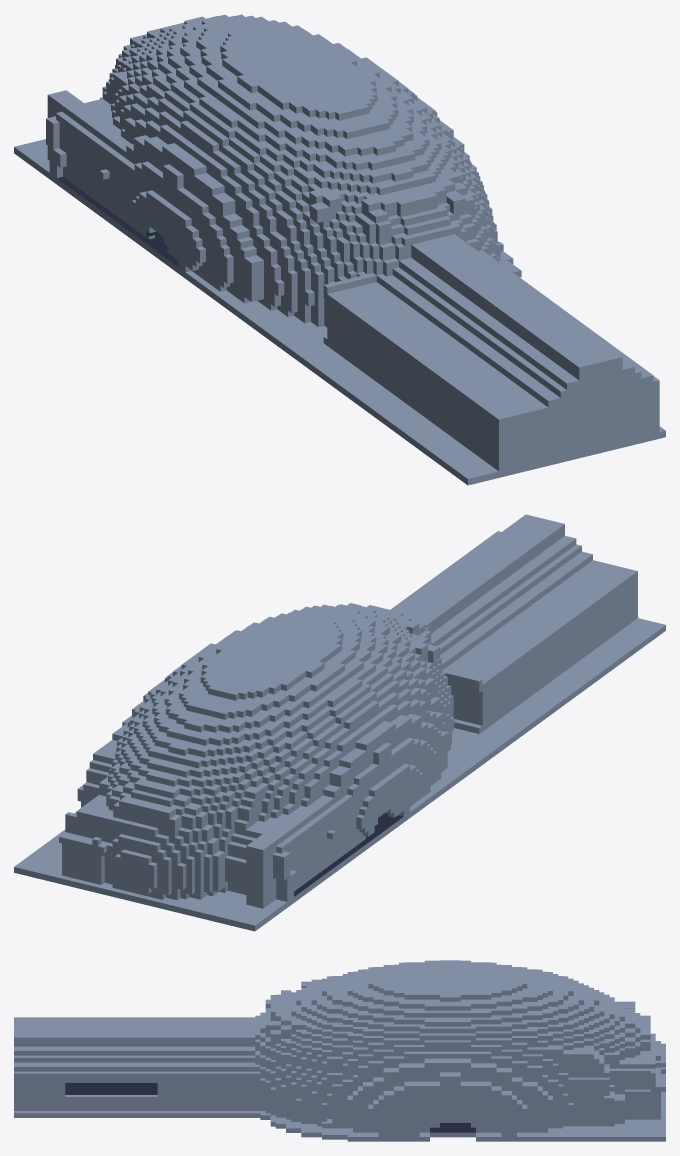
File: LevelCorrected.glb
3 renders of one model, top to bottom at view 1: azimuth 30°, elevation 25°; view 2: azimuth 150°, elevation 25°; view 3: azimuth 270°, elevation 25°, orthographic. The views are drawn at different scales.
Visible parts, largest first — view 1: Untitled; view 2: Untitled; view 3: Untitled.
Part boxes in pixels (left/top/right/bottom): Untitled: left=14, top=14, right=665, bottom=485; Untitled: left=14, top=514, right=665, bottom=931; Untitled: left=14, top=960, right=665, bottom=1141.
Size of the model in its own units: 4.07 by 2.37 by 12.03.
Materials: 1 (1 with a texture image).
